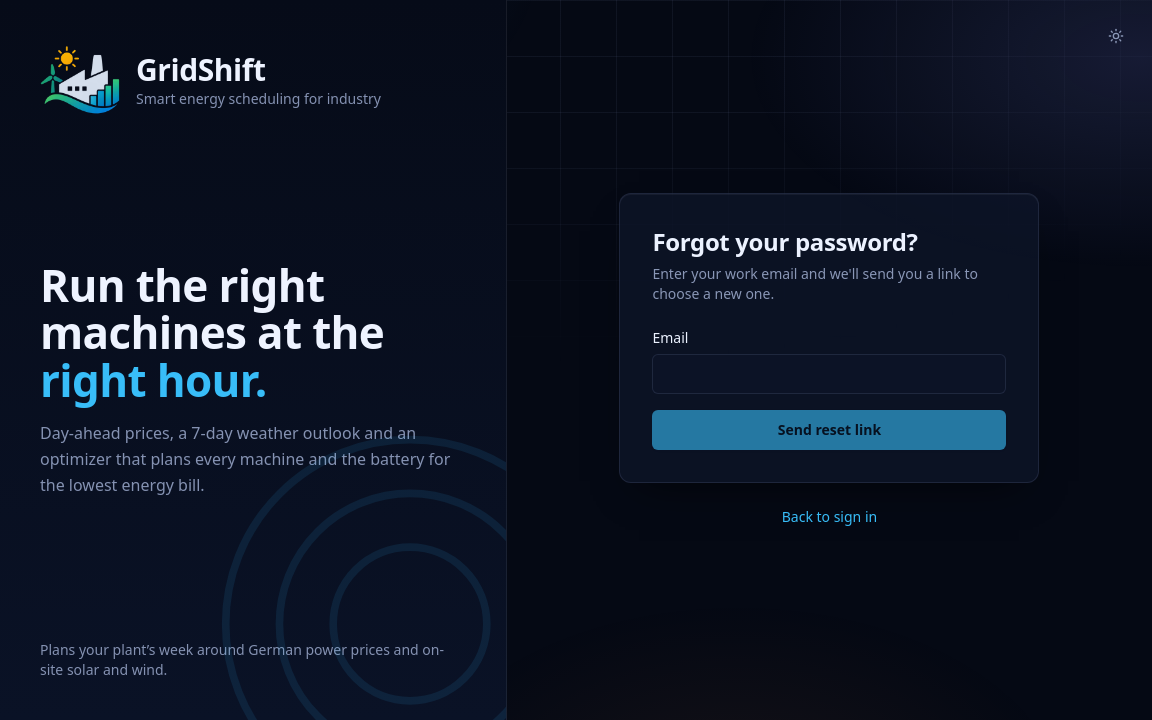
Test: sign-in and access › confirms a forgot-password request without revealing accounts
Type "who@example.com" into the field labelled "Email".
click(829, 374); type("who@example.com")  # box x1=652 y1=354 x2=1006 y2=394
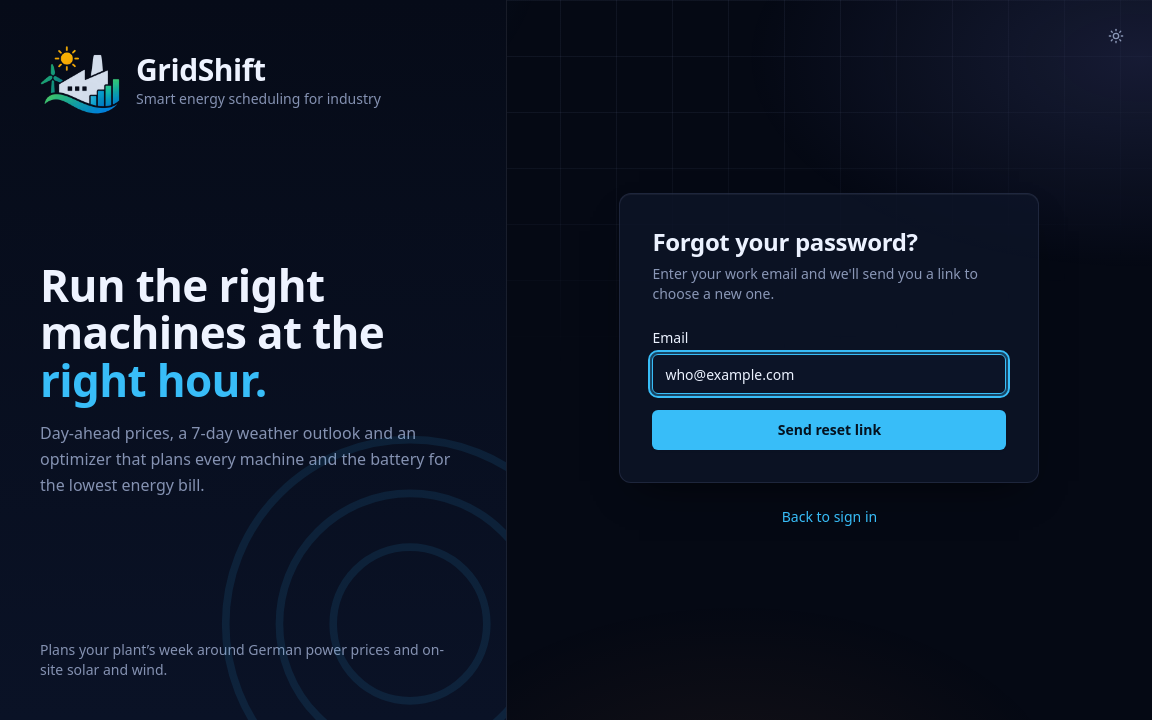
Click the button "Send reset link".
click(829, 430)  # box x1=652 y1=410 x2=1006 y2=450
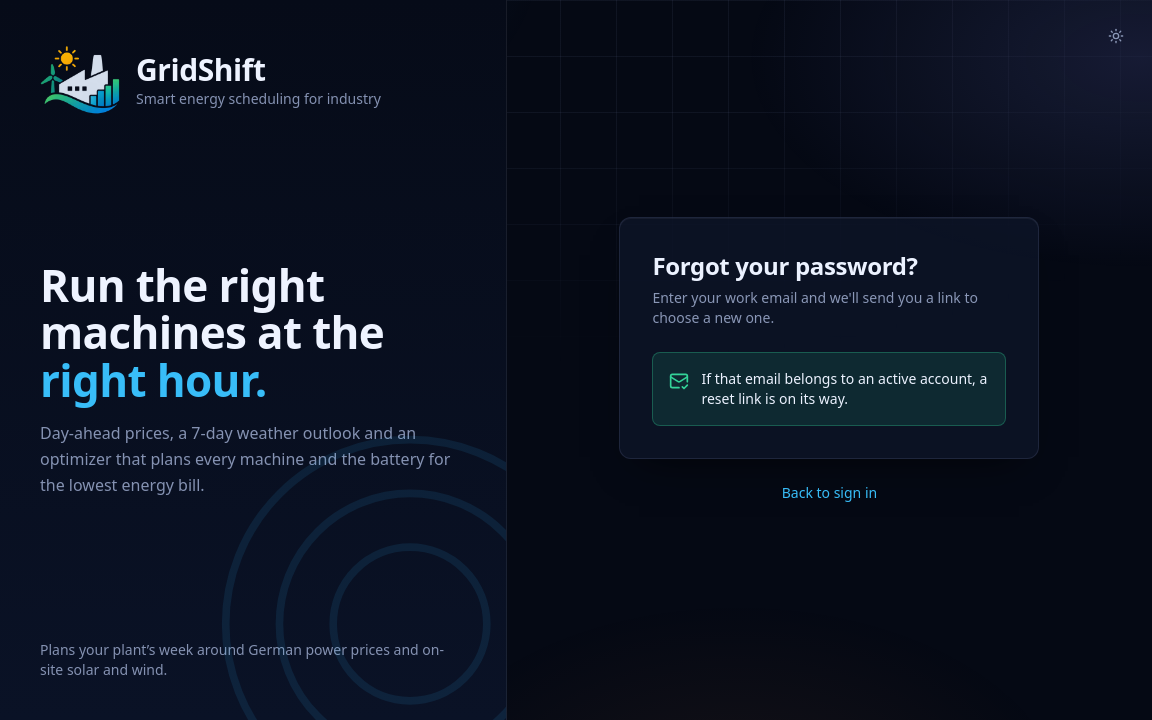
Check: the message shows "If that email belongs", box x1=701 y1=369 x2=987 y2=408
